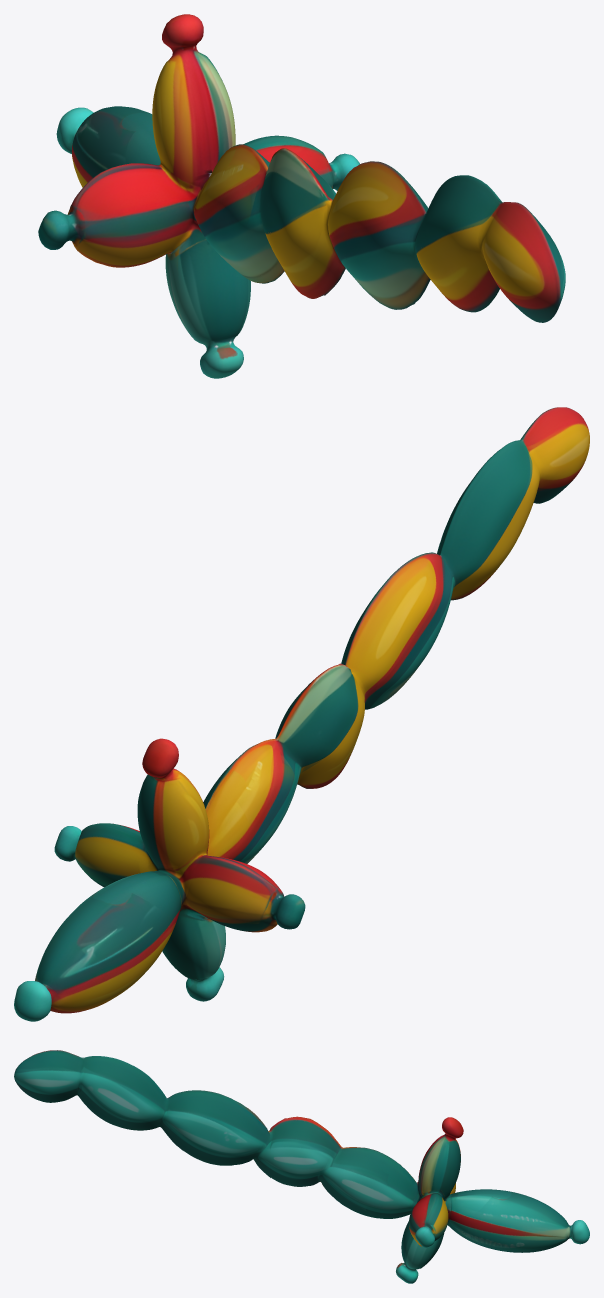
File: Balloon.fbx
3 renders of one model, top to bottom at view 1: azimuth 30°, elevation 25°; view 2: azimuth 150°, elevation 25°; view 3: azimuth 270°, elevation 25°, orthographic. The views are drawn at different scales.
Parts seen in each view (by area): view 1: Balloon Sword; view 2: Balloon Sword; view 3: Balloon Sword.
Boxes of the visible parts, <box> form: Balloon Sword: <box>38,14,565,378</box>; Balloon Sword: <box>14,407,589,1021</box>; Balloon Sword: <box>14,1050,589,1283</box>.
Size of the model in its own units: 25.57 by 35.87 by 84.88.
